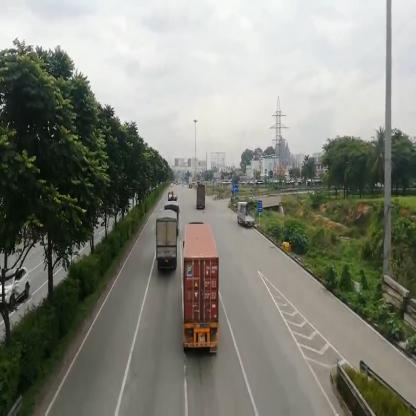car: (3, 270, 33, 305)
container: (184, 224, 218, 353)
truck: (157, 213, 179, 269), (238, 203, 256, 229), (197, 185, 207, 210)
